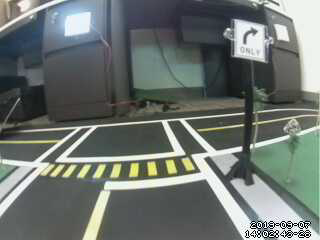Right_only_sign: (236, 19, 271, 66)
